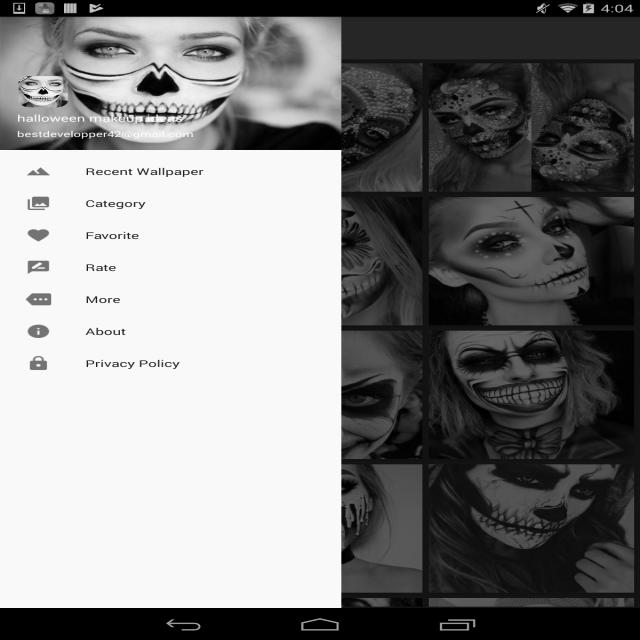CheckedTextView: (26, 156, 316, 188), (26, 188, 316, 220), (26, 220, 316, 252), (26, 252, 316, 284), (26, 284, 316, 316), (26, 316, 316, 348), (26, 348, 316, 380)
ImageButton: (9, 19, 68, 57)
ImageView: (5, 63, 211, 192), (5, 464, 211, 593), (217, 63, 422, 192), (429, 63, 634, 192), (217, 464, 422, 593), (429, 464, 634, 593), (5, 197, 211, 325), (5, 331, 211, 459), (217, 197, 422, 325), (429, 197, 634, 325), (217, 331, 422, 459), (429, 331, 634, 459), (5, 598, 211, 640), (217, 598, 422, 640), (429, 598, 634, 640), (17, 76, 68, 108)
TextView: (17, 124, 324, 140), (73, 29, 310, 47), (17, 112, 324, 124)
